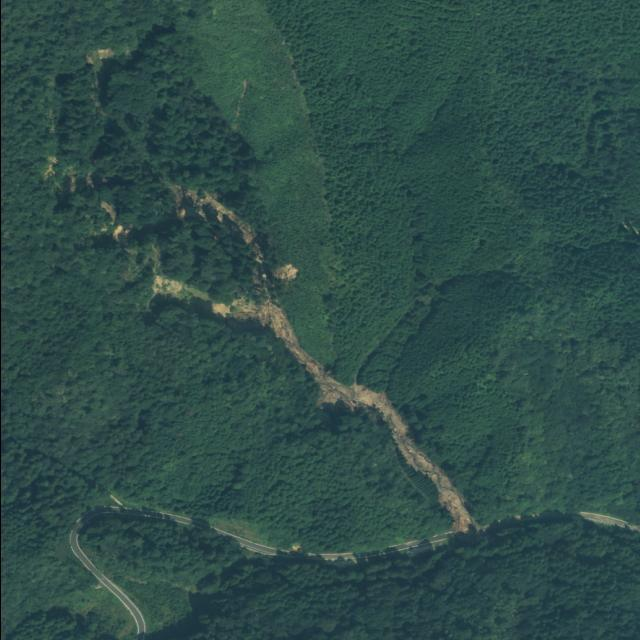landslide: (151, 275, 487, 533)
